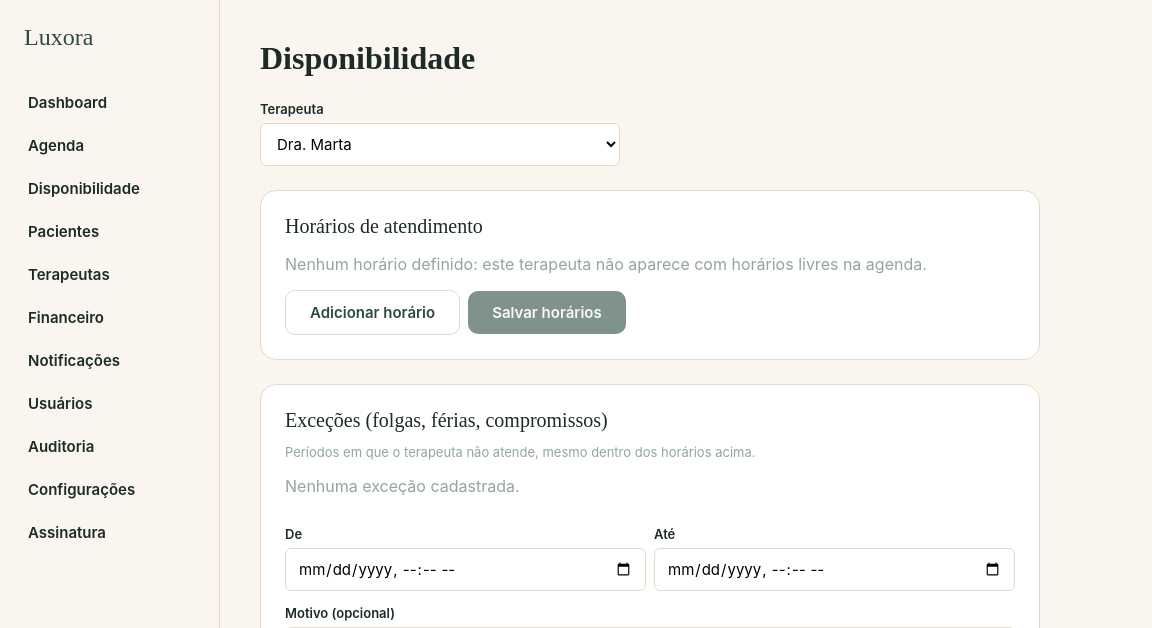
DisponibilidadePage — exceções › fim antes do início é barrado na tela
In the field labelled "De": (466, 570) [285,548,646,591], type "2031-03-10T18:00"
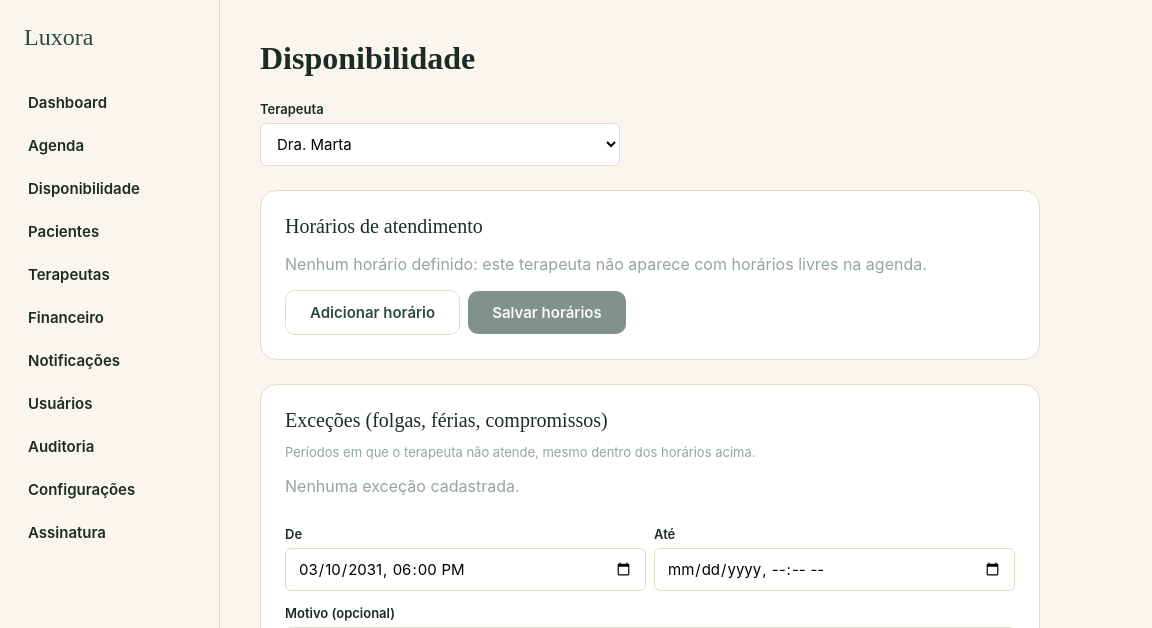
In the field labelled "Até": (834, 570) [654,548,1015,591], type "2031-03-10T08:00"
(page scrolled)
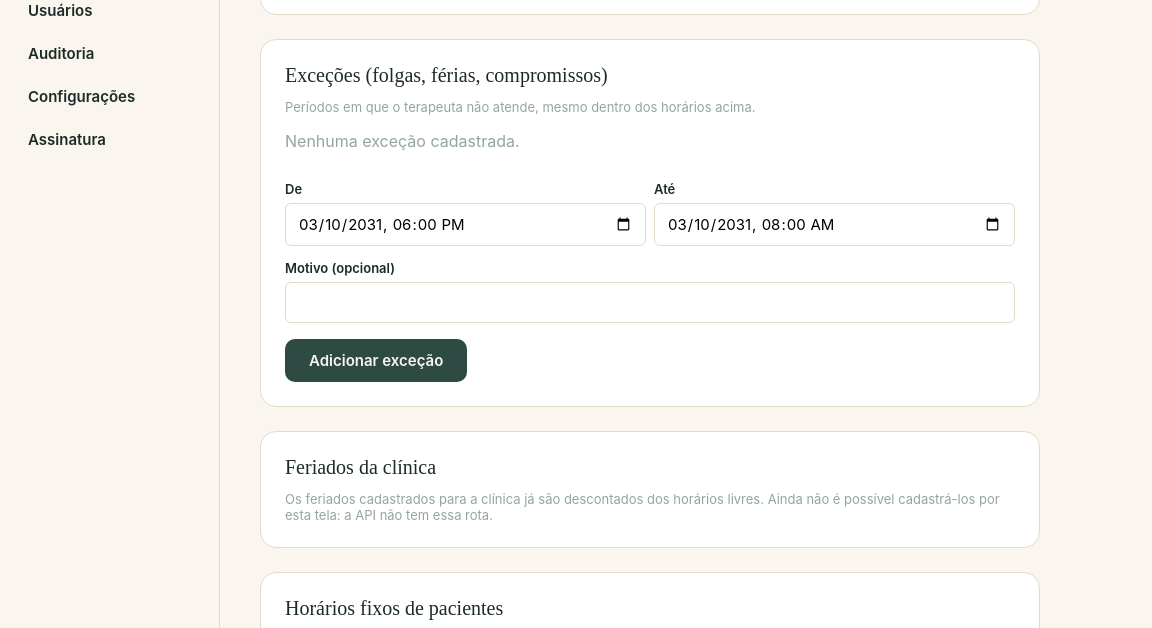
Click the button "Adicionar exceção": (376, 360) [285,339,467,382]
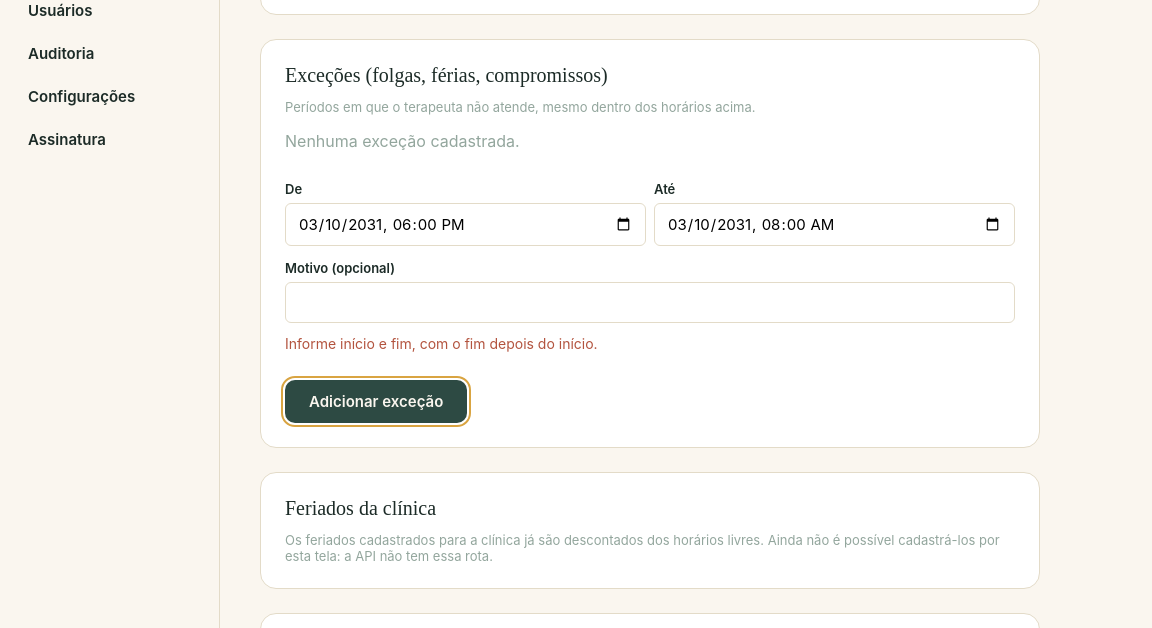
expect the message shows "fim depois do início": met, box [285,335,598,352]
